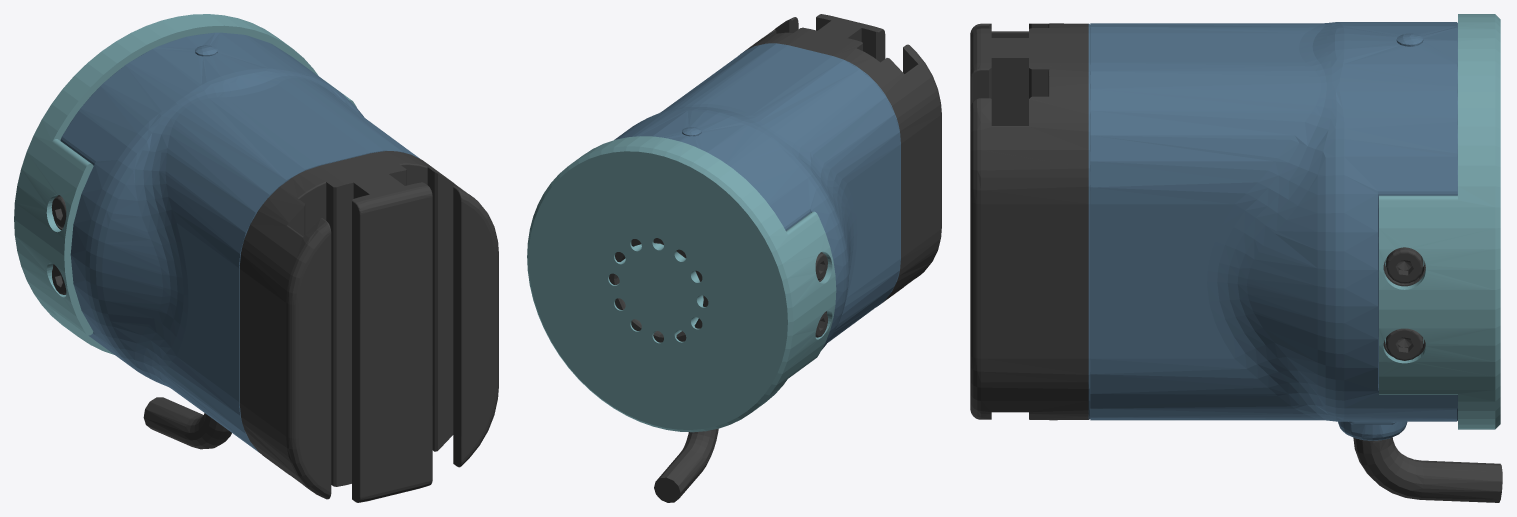
3 renders of one model, left to right at view 1: azimuth 30°, elevation 25°; view 2: azimuth 150°, elevation 25°; view 3: azimuth 270°, elevation 25°, orthographic. The views are drawn at different scales.
Visible parts, largest first — view 1: base_link; view 2: base_link; view 3: base_link.
Boxes of the visible parts, x1=… form: base_link: x1=14, y1=14, x2=498, y2=502; base_link: x1=527, y1=14, x2=941, y2=502; base_link: x1=970, y1=14, x2=1502, y2=502.
Size of the model in its own units: 0.078 by 0.098 by 0.0999.
